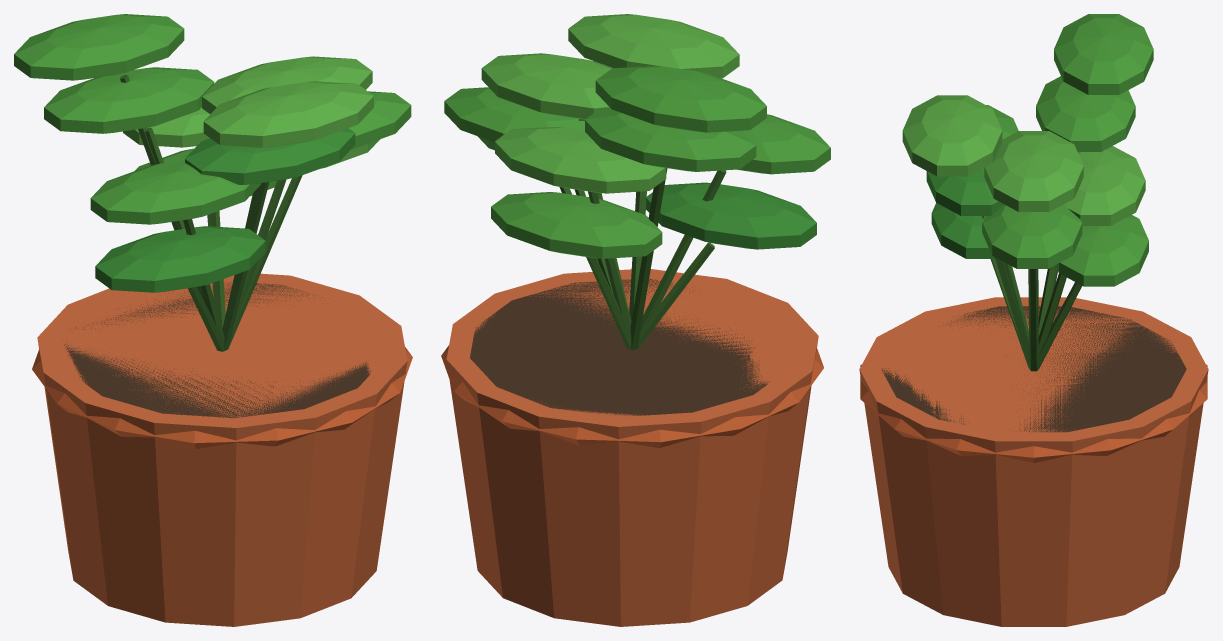
File: plant.glb
3 renders of one model, left to right at view 1: azimuth 30°, elevation 25°; view 2: azimuth 150°, elevation 25°; view 3: azimuth 270°, elevation 25°, orthographic. The views are drawn at different scales.
Parts seen in each view (by area): view 1: plant; view 2: plant; view 3: plant.
Part boxes in pixels (x1=…): plant: x1=14, y1=14, x2=412, y2=626; plant: x1=441, y1=14, x2=830, y2=626; plant: x1=859, y1=14, x2=1208, y2=626.
Bounding box in the file's own units: 0.5114 × 0.7451 × 0.48.
